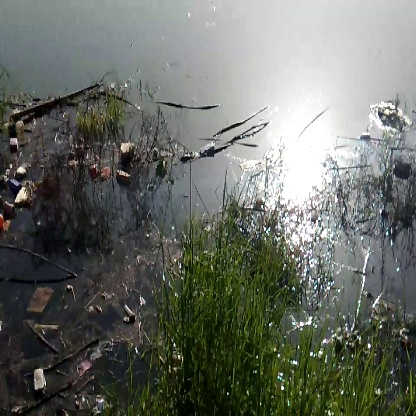branch: (13, 79, 105, 126)
